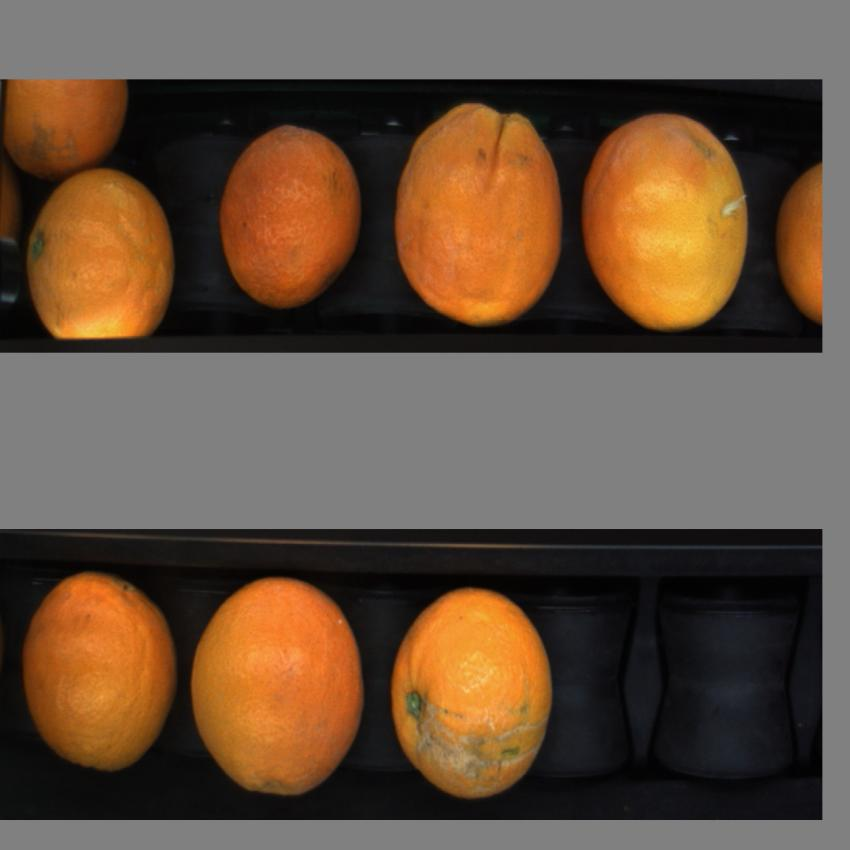Buen estado: (190, 568, 366, 802), (578, 113, 752, 330), (20, 563, 181, 782), (27, 170, 177, 341), (1, 78, 132, 175)
Mal estado: (393, 100, 568, 322), (388, 576, 557, 802), (215, 126, 365, 310), (770, 154, 823, 318)
